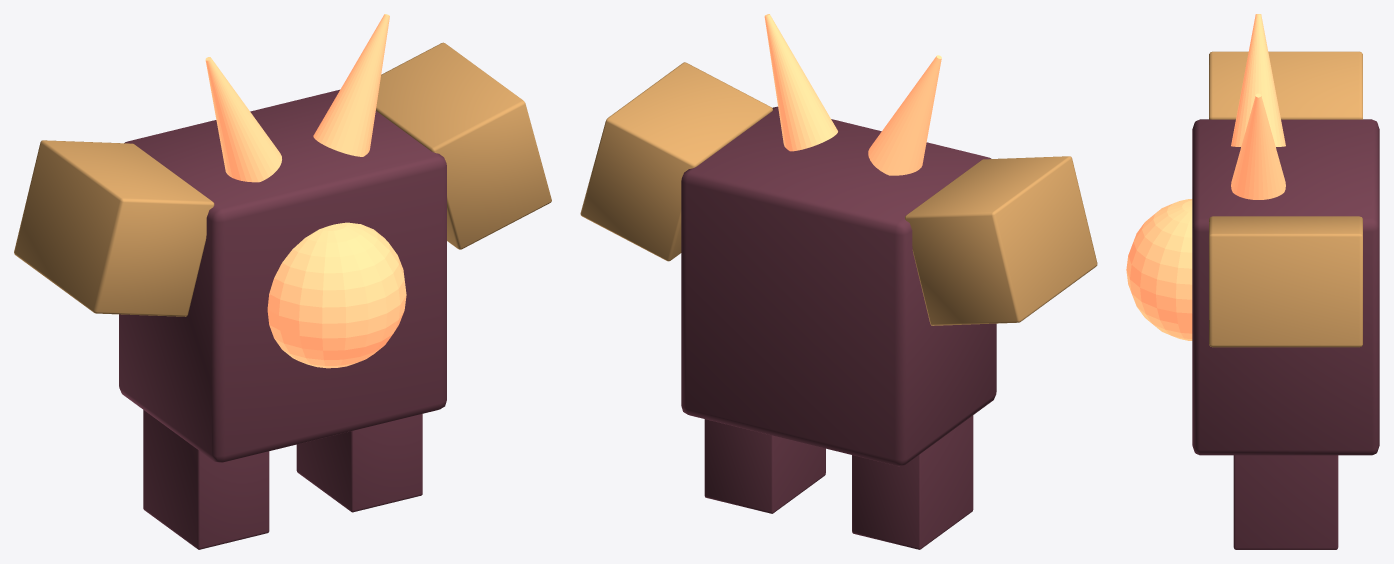
File: enemy_colossus.glb
3 renders of one model, left to right at view 1: azimuth 30°, elevation 25°; view 2: azimuth 150°, elevation 25°; view 3: azimuth 270°, elevation 25°, orthographic. The views are drawn at different scales.
Parts seen in each view (by area): view 1: Cube, Cube.001, Cube.003, Sphere, Cube.002, Cube.004, Cone.001, Cone; view 2: Cube, Cube.001, Cube.003, Cube.002, Cube.004, Cone.001, Cone; view 3: Cube, Cube.003, Cube.004, Cube.001, Sphere, Cone.001, Cone.
Part boxes in pixels (x1,y1,x2,y2): Cube: (119, 89, 446, 462); Cube.001: (14, 140, 214, 316); Cube.003: (376, 42, 551, 249); Sphere: (267, 222, 406, 368); Cube.002: (143, 410, 269, 549); Cube.004: (296, 414, 422, 512); Cone.001: (313, 14, 389, 156); Cone: (205, 57, 281, 182); Cube: (681, 106, 996, 466); Cube.001: (905, 156, 1097, 325); Cube.003: (580, 62, 772, 261); Cube.002: (852, 415, 973, 549); Cube.004: (704, 419, 825, 513); Cone.001: (764, 14, 837, 151); Cone: (868, 55, 941, 175); Cube: (1192, 119, 1379, 455); Cube.003: (1209, 216, 1362, 347); Cube.004: (1233, 455, 1338, 549); Cube.001: (1209, 51, 1362, 119); Sphere: (1126, 199, 1192, 340); Cone.001: (1231, 93, 1285, 199); Cone: (1231, 14, 1285, 146).
Size of the model in its own units: 1.79 by 1.79 by 0.92.
